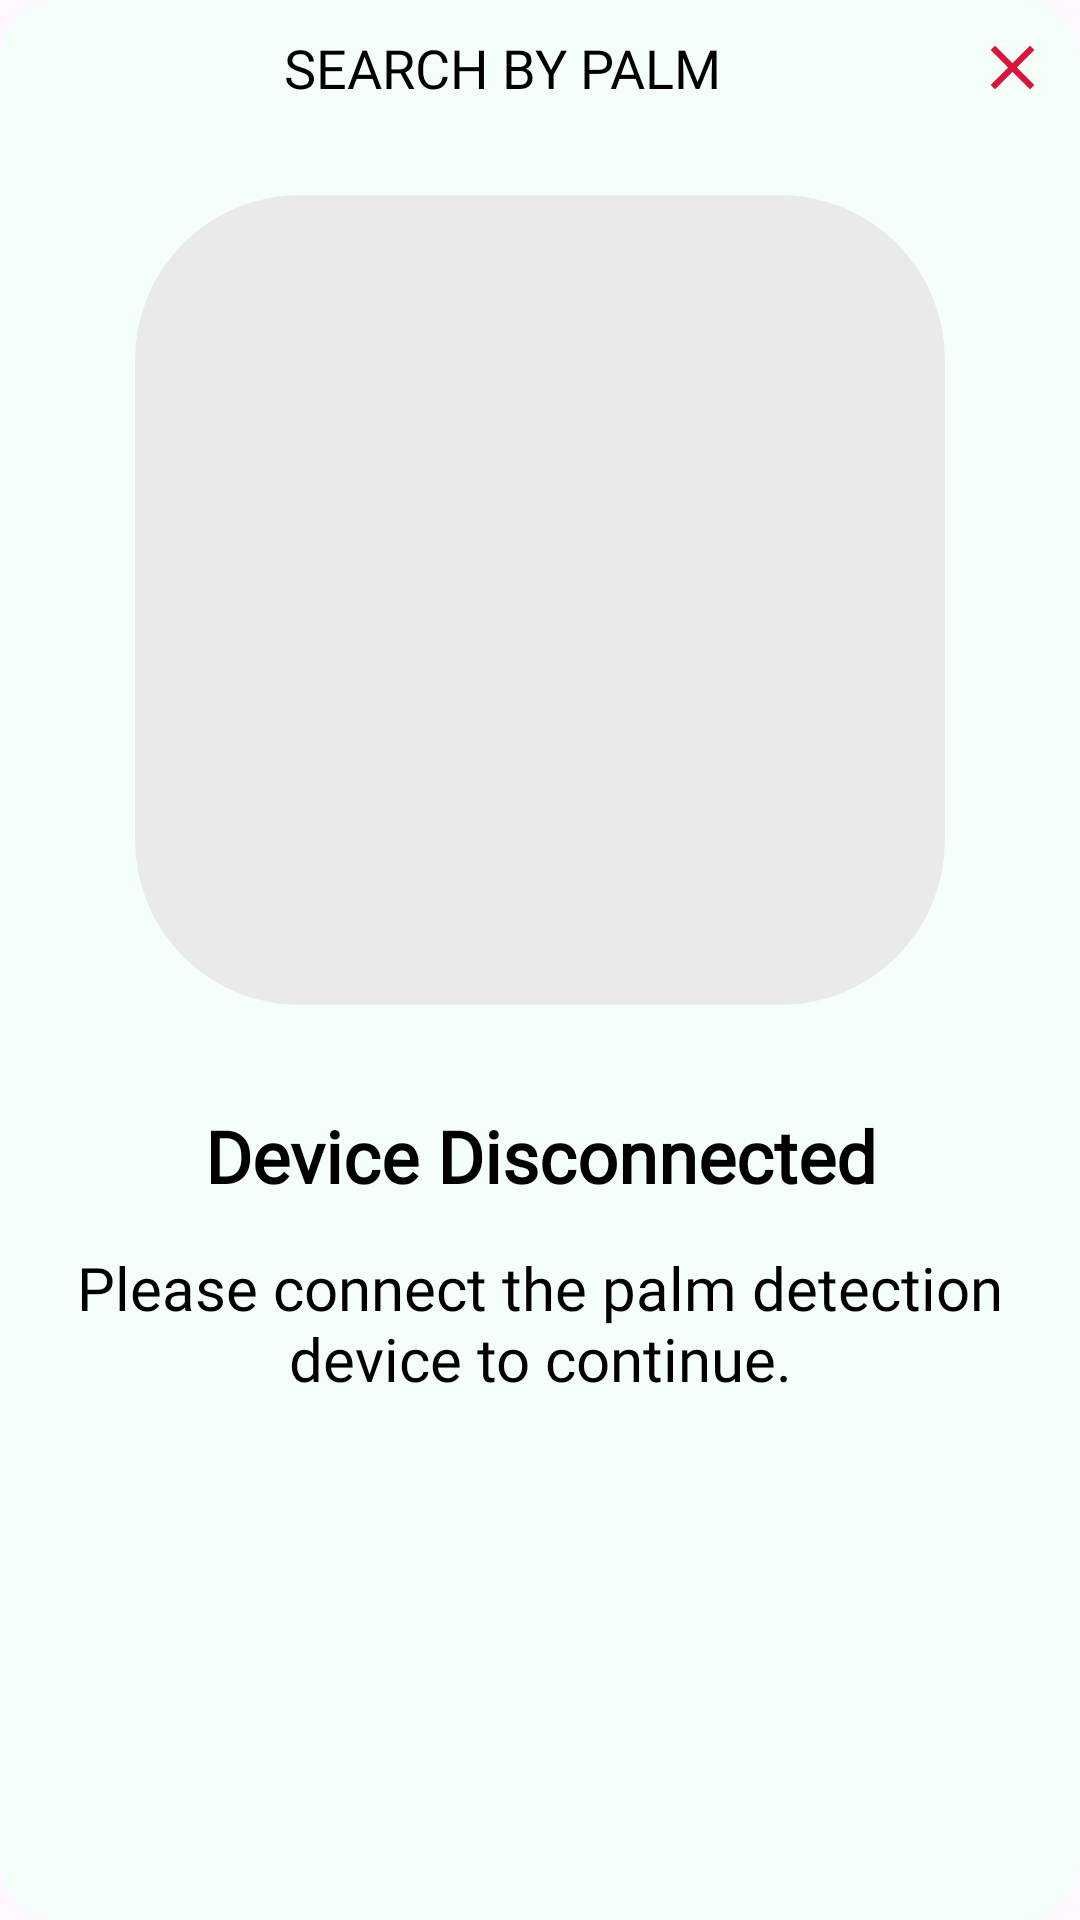

Screen size 1080px x 1920px. Icon name, then its box in pixels as box=[x1, y1, x2, y2]:
close: box=[991, 46, 1034, 89]
